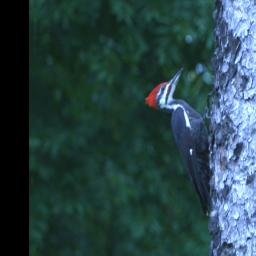Woodpecker: (143, 61, 217, 223)
